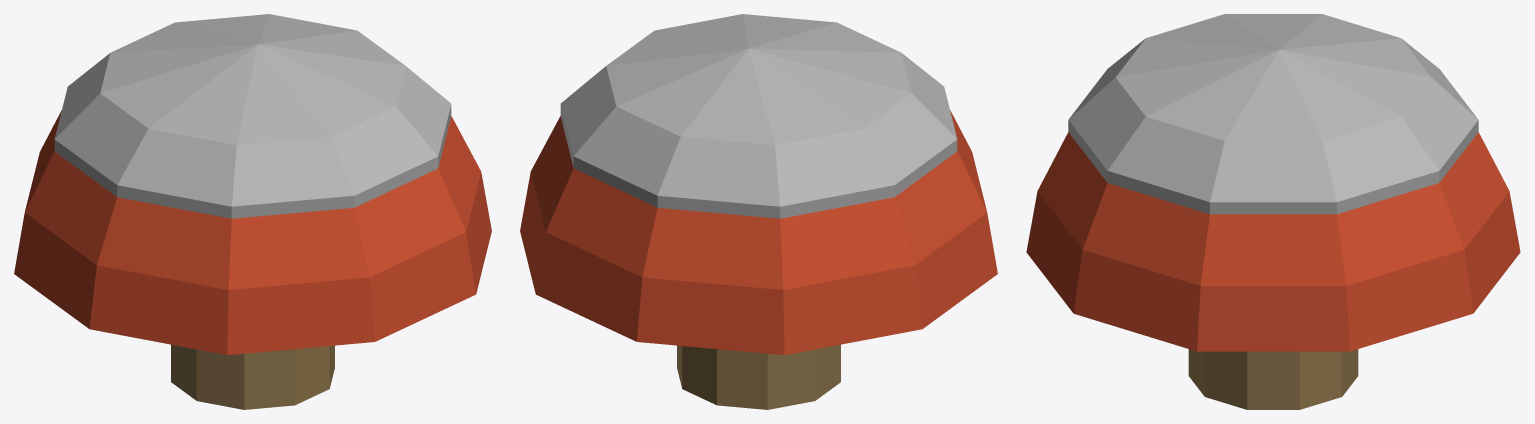
The model's file is Mushroom_1 Winter.fbx.
The picture shows the model from 3 angles, left to right: view 1: azimuth 30°, elevation 25°; view 2: azimuth 150°, elevation 25°; view 3: azimuth 270°, elevation 25°; orthographic projection.
Parts seen in each view (by area): view 1: MushroomWinter_mesh; view 2: MushroomWinter_mesh; view 3: MushroomWinter_mesh.
Part boxes in pixels (x1,y1,x2,y2): MushroomWinter_mesh: (14,14,491,409); MushroomWinter_mesh: (520,14,997,409); MushroomWinter_mesh: (1026,14,1520,409).
Size of the model in its own units: 23.15 by 17.93 by 24.34.
